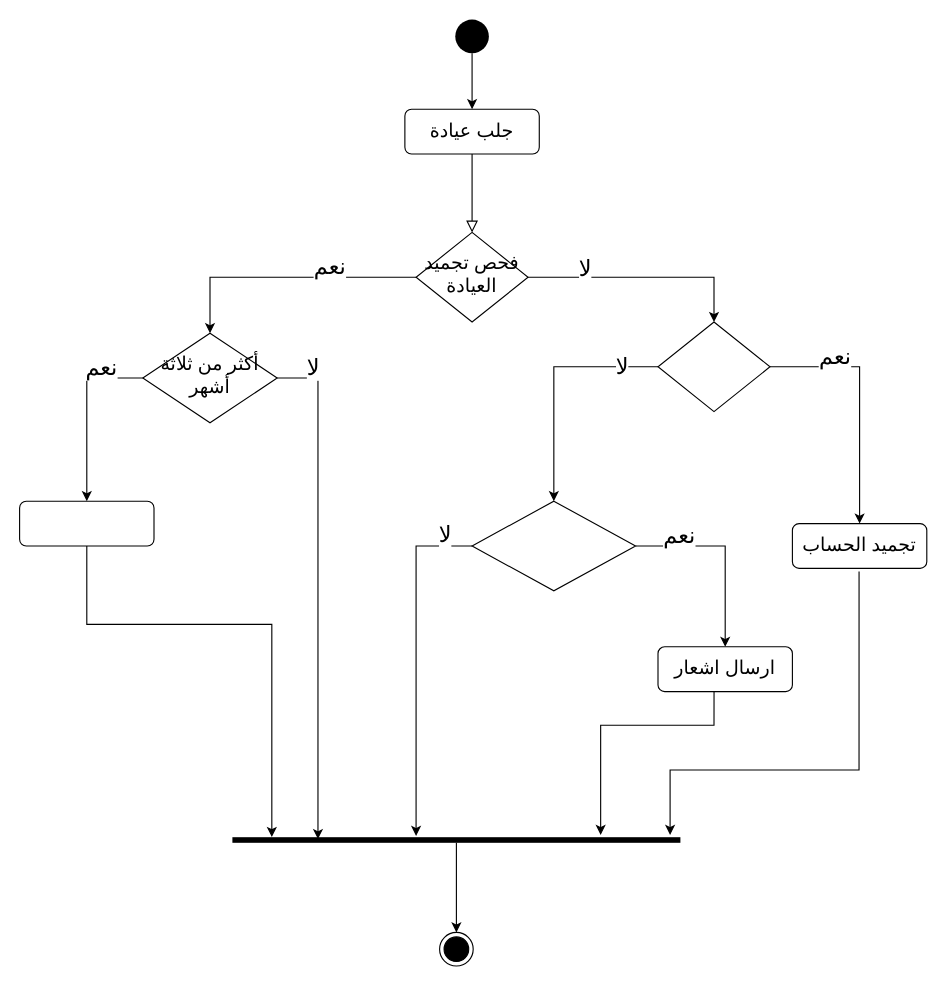
The diagram is 946 pixels wide and 986 high, and some of its shapes have lost their labels. Here are the shapes that lost their labels. From the top down, the centre of each, then its label:
At (713,366): "انتهاء مدة العقد".
At (86,523): "حذف الحساب".
At (553,545): "صلاحية العقد اقل من شهر".
